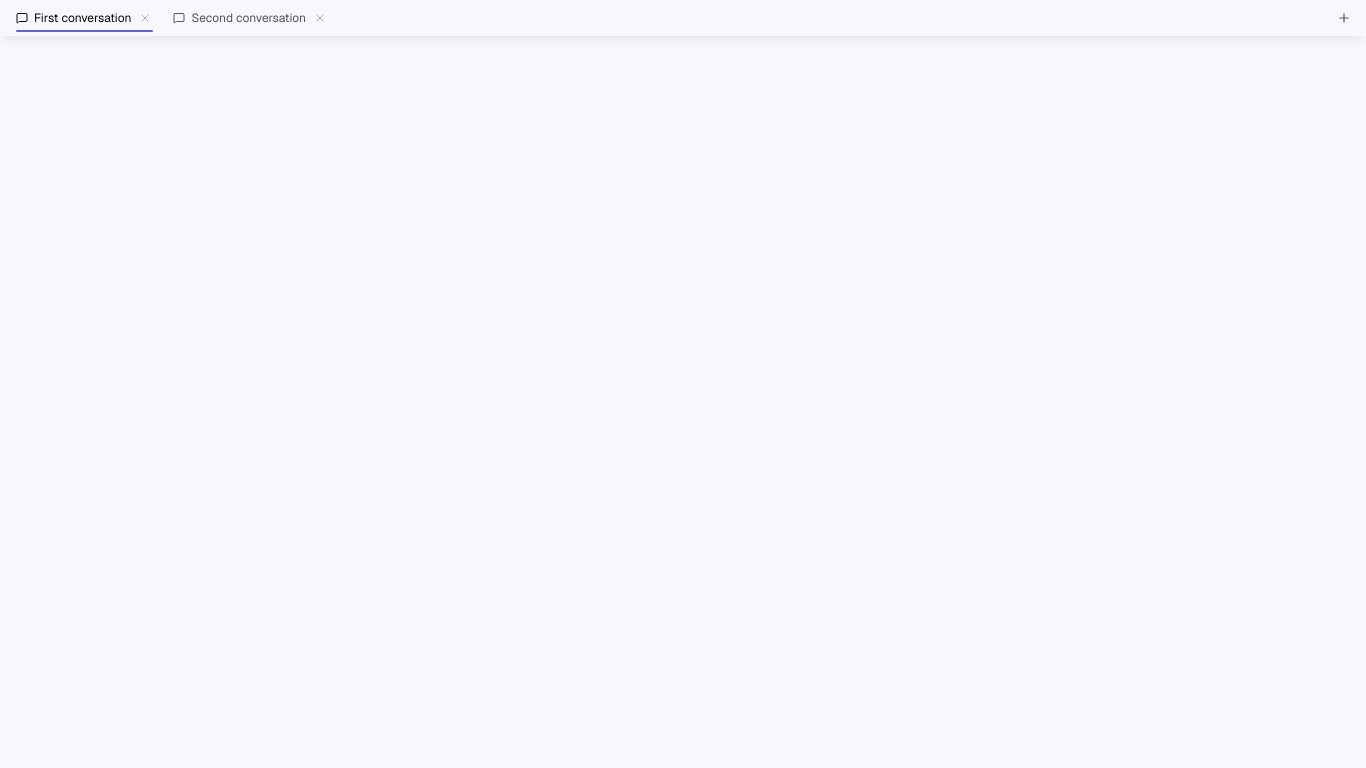
Test case: ConversationTabs › shows delete dialog with 'conversation' wording, not 'session'
Click the 2nd button at (320, 18), box 314,12 -> 326,24
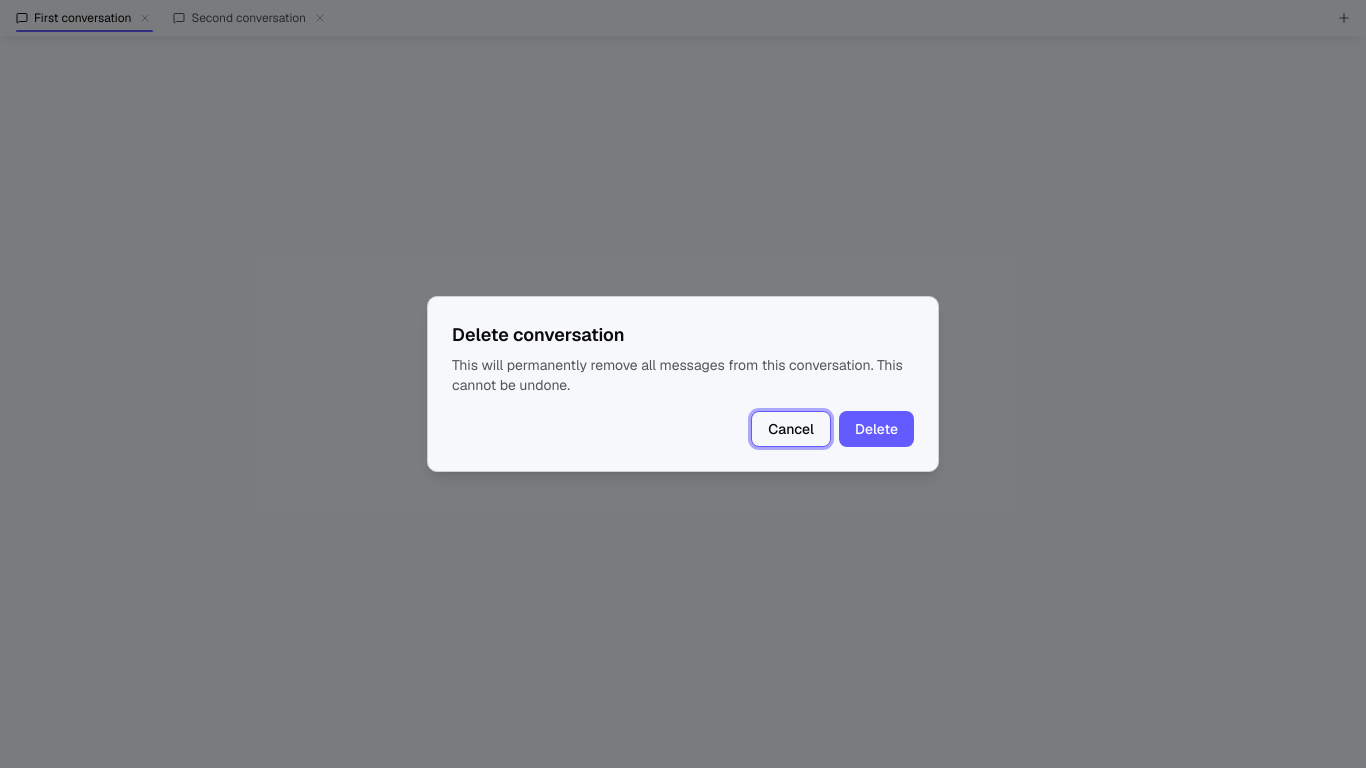
Check: the heading "Delete conversation" is shown, box 452,321 -> 624,349
Check: the text "permanently remove all messages from this conversation" is shown, box 452,356 -> 903,394
